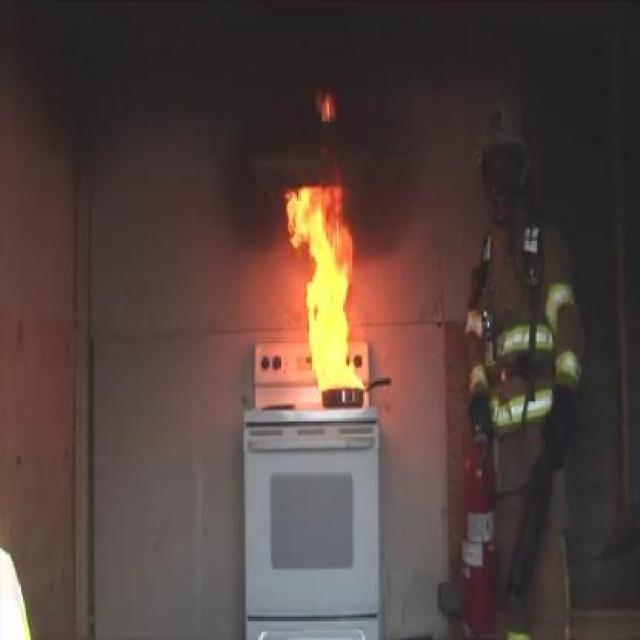fire: (78, 203, 306, 486)
